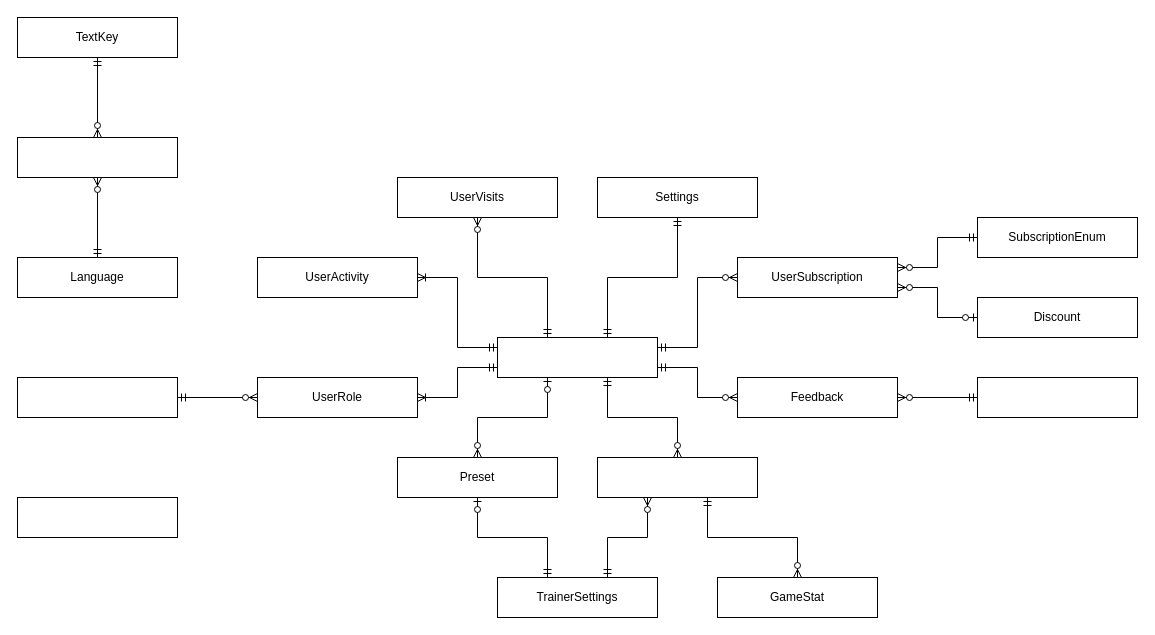
Image size: 1155x635. Some labels were removed from this diagram. Each missing label, with the centre of its shape:
"Changelog" belongs at (x=97, y=517).
"FeedbackEnum" belongs at (x=1057, y=397).
"Game" belongs at (x=677, y=477).
"RoleEnum" belongs at (x=97, y=397).
"TextValue" belongs at (x=97, y=157).
"User" belongs at (x=577, y=357).
